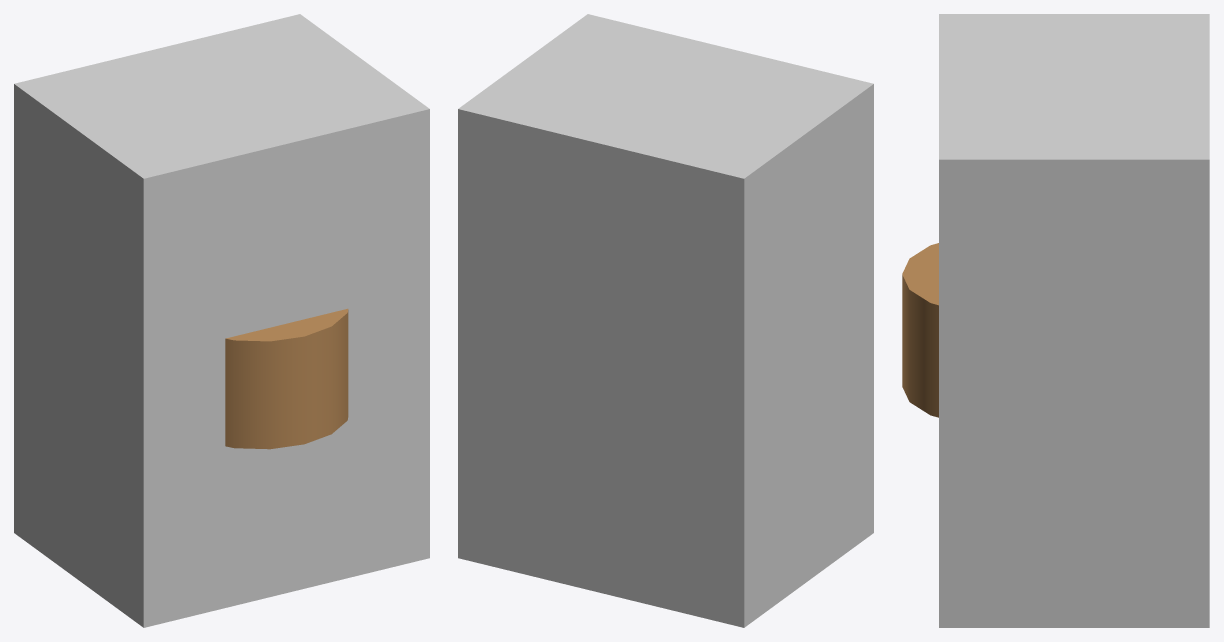
Rendered from wall-sconce_commercial.glb.
3 views of the same model, side by side, from view 1: azimuth 30°, elevation 25°; view 2: azimuth 150°, elevation 25°; view 3: azimuth 270°, elevation 25° (orthographic). The views are drawn at different scales.
Visible parts, largest first — view 1: COL_wall-sconce, MESH_Shade; view 2: COL_wall-sconce; view 3: COL_wall-sconce, MESH_Shade.
Part boxes in pixels (x1=…): COL_wall-sconce: x1=14, y1=14, x2=429, y2=627; MESH_Shade: x1=225, y1=308, x2=348, y2=449; COL_wall-sconce: x1=458, y1=14, x2=873, y2=627; COL_wall-sconce: x1=939, y1=14, x2=1209, y2=627; MESH_Shade: x1=902, y1=243, x2=938, y2=417.
Size of the model in its own units: 0.28 by 0.42 by 0.25.
